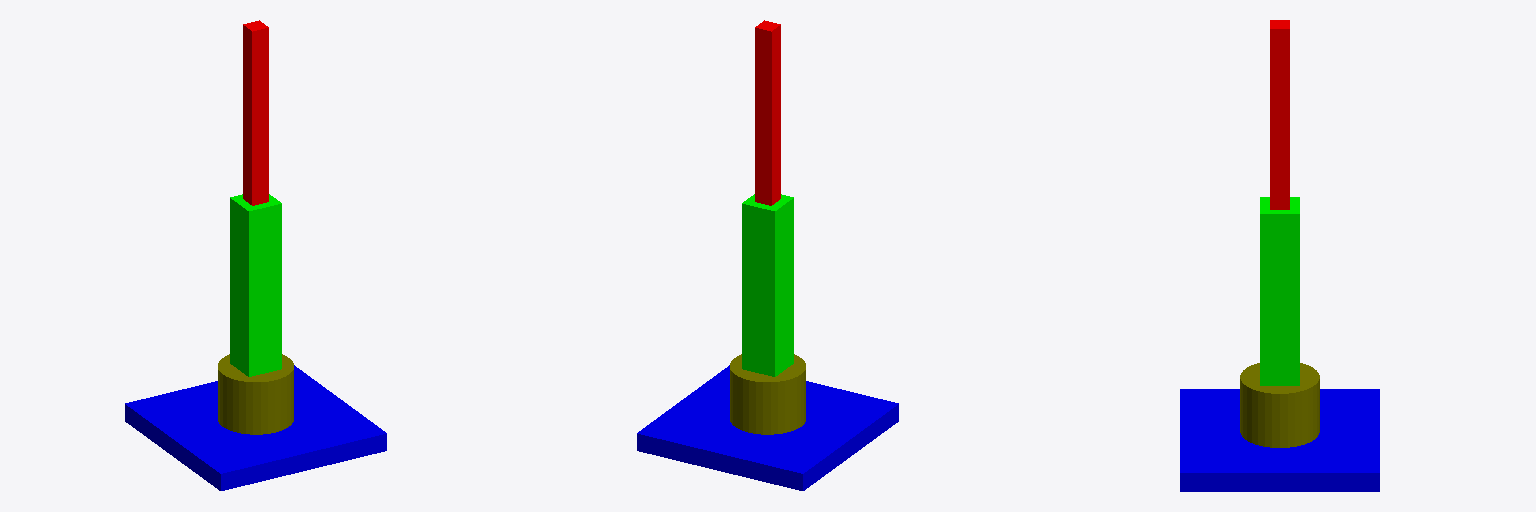
robot.urdf — ppprobot:
<?xml version="1.0"?>
 <robot name="ppprobot">
 <material name="red">
 <color rgba="1 0 0 0.5" />
 </material>
 <material name="green">
 <color rgba="0 1 0 0.5" />
 </material>
 <material name="ilayda">
 <color rgba="0.5 0.5 0 0.5" />
 </material>
 <material name="blue">
 <color rgba="0 0 1 0.5" />
 </material>
<link name="base_link">
 <visual>
 <geometry>
 <box size="1 1 0.1" />
 </geometry>
 <origin xyz="0 0 0" />
 <material name="blue" />
 </visual>
 </link> 
 <link name="link1">
 <visual>
 <geometry>
 <cylinder radius = "0.2" length="0.3" />
 </geometry>
 <material name="ilayda" />
 </visual>
 </link>
 <link name="link2">
 <visual>
 <geometry>
 <box size="0.2 0.2 1" />
 </geometry>
 <origin xyz="0 0 0.2" />
 <material name="green" />
 </visual>
 </link>
<link name="end">
 <visual>
 <geometry>
 <box size="0.1 0.1 1" />
 </geometry>
 <origin xyz="0 0 1.2" />
 <material name="red" />
 </visual>
 </link>
<joint name="q1" type="prismatic">
 <parent link="base_link" />
 <child link="link1" />
 <limit velocity="170" effort="200" lower="-1" upper="0.93" />
 <origin xyz="0 0 0.2" />
 <axis xyz="1 0 0"/>
 </joint>
 <joint name="q2" type="prismatic">
 <parent link="link1" />
 <child link="link2" />
 <limit velocity="170" effort="200" lower="-1" upper="0.93" />
 <origin xyz="0 0 0.4" />
 <axis xyz="0 0 1" />
 </joint>
 <joint name="q3" type="prismatic">
 <parent link="link2" />
 <child link="end" />
 <limit velocity="170" effort="200" lower="-1" upper="0.93" />
 <origin xyz="0 0 0" />
 <axis xyz="0 0 1" />
 </joint>
 </robot>

--- Facts derived from the render (not from the file) ---
Views: 3 orthographic renders of the robot side by side, from view 1: azimuth 30°, elevation 25°; view 2: azimuth 150°, elevation 25°; view 3: azimuth 270°, elevation 25°.
Model ppprobot with 4 links and 3 joints (3 prismatic), rooted at base_link, posed all joints at 0.
Links seen in each view (by area): view 1: base_link, link2, link1, end; view 2: base_link, link2, link1, end; view 3: base_link, link2, link1, end.
Link boxes in pixels (x1,y1,x2,y2): base_link: [125, 365, 386, 490]; link2: [230, 194, 281, 376]; link1: [218, 354, 293, 434]; end: [243, 20, 268, 205]; base_link: [637, 365, 898, 490]; link2: [742, 194, 793, 376]; link1: [730, 354, 805, 434]; end: [755, 20, 780, 205]; base_link: [1180, 389, 1379, 491]; link2: [1260, 197, 1299, 385]; link1: [1240, 363, 1319, 447]; end: [1270, 20, 1289, 209].
Bounding box of the posed robot: 1 × 1 × 2.35 m (x, y, z).
Geometry: primitives only (box / cylinder / sphere), no mesh files.
